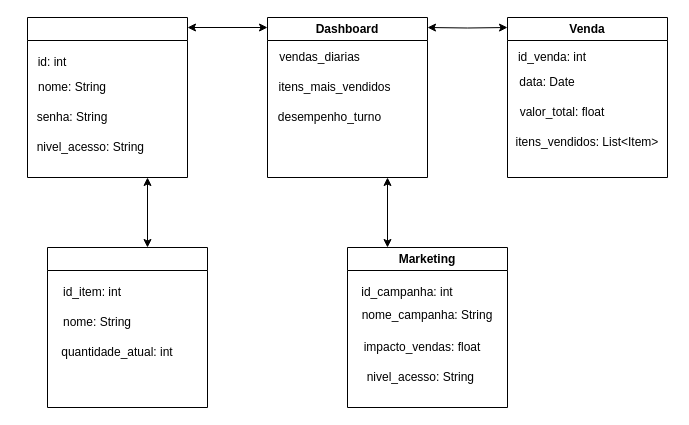
The diagram is 689 pixels wide and 425 high, and some of its shapes have lost their labels. Each missing label, with the box of its shape:
Estoque: (46, 246, 208, 408)
Usuario: (26, 16, 188, 178)
